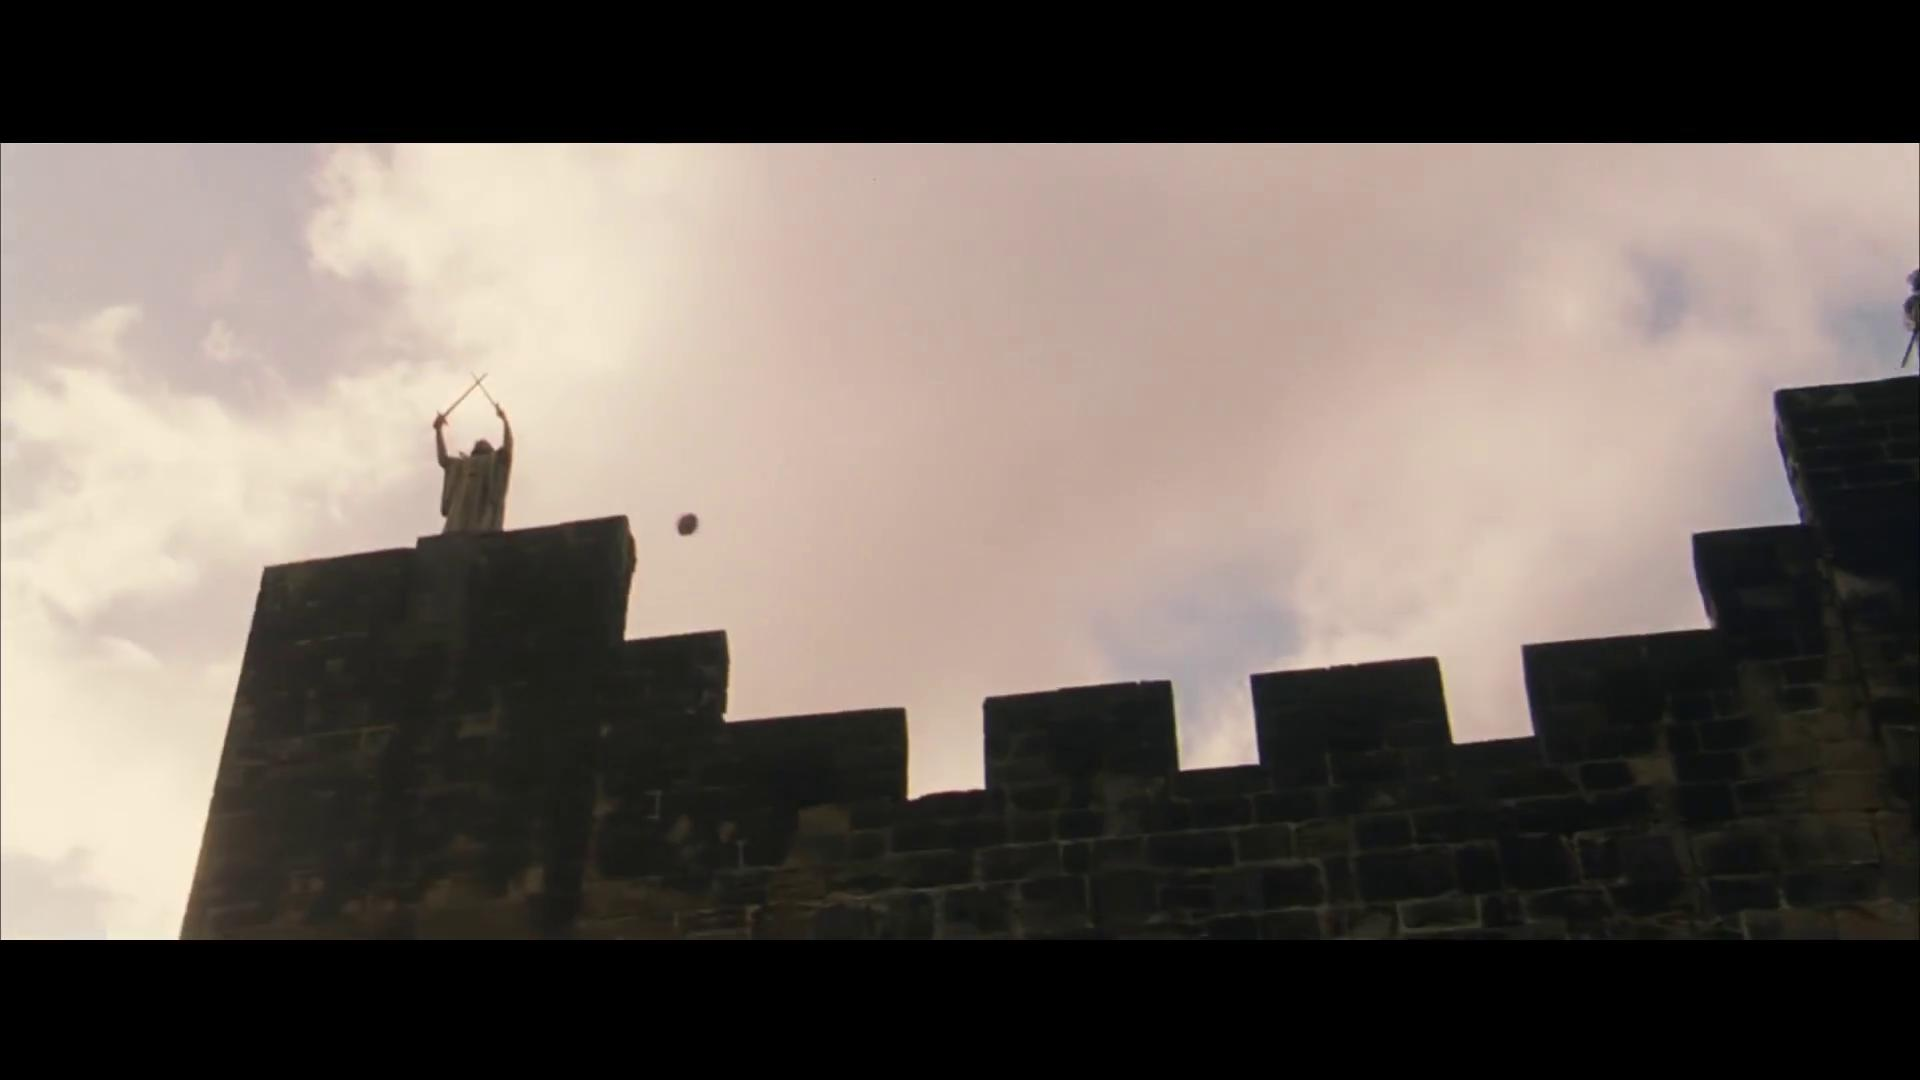bludger: (673, 510, 698, 535)
